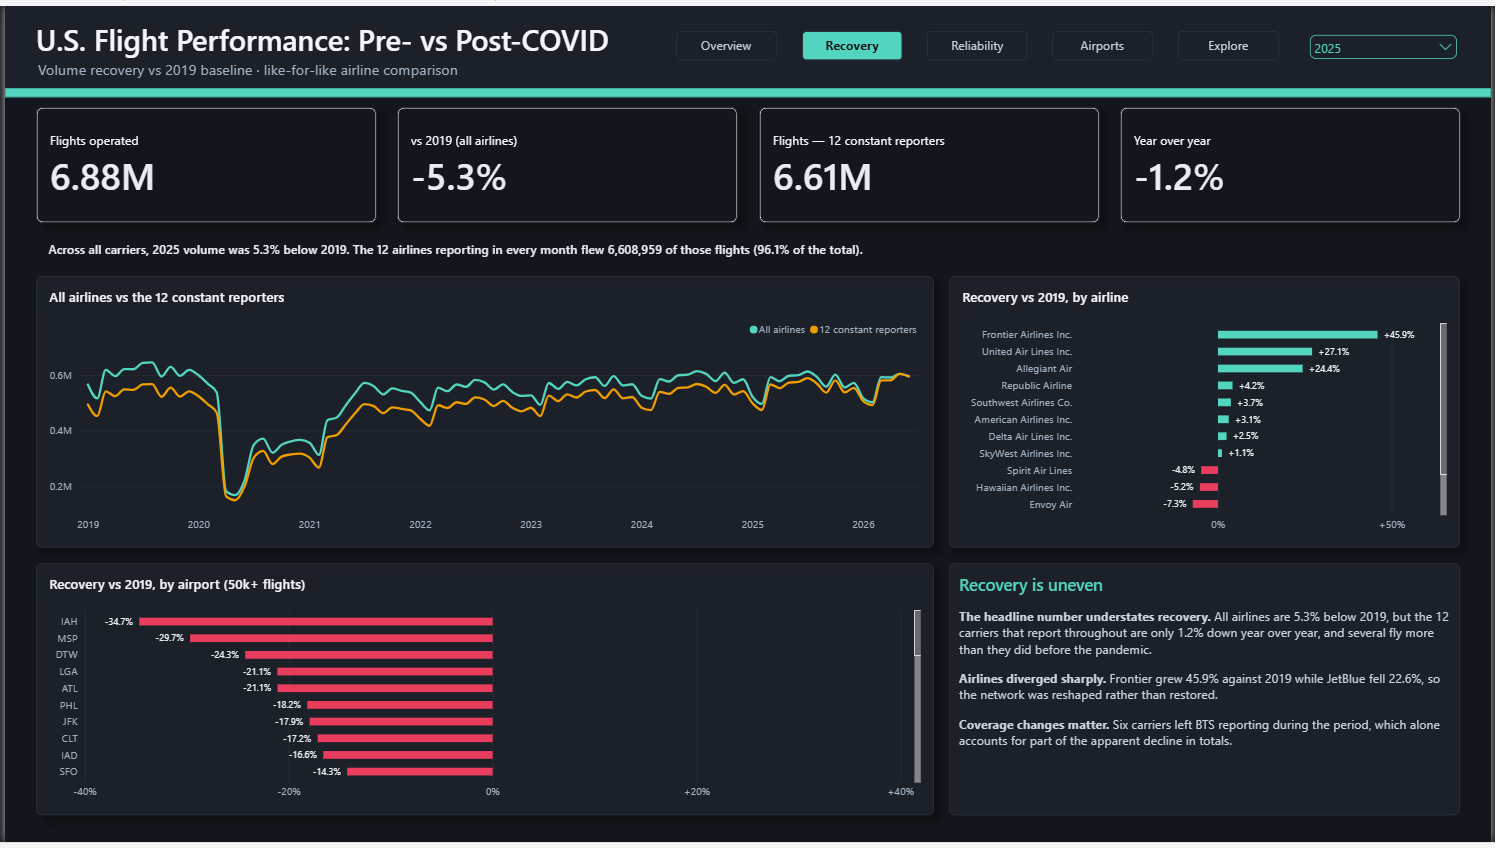

The dashboard page shown, as its layout file describes it:
{"tool":"powerbi","page":{"name":"Recovery","canvas":[1920,1080],"ordinal":1},"visuals":[{"type":"shape","box":[0,0,1920,110],"z":0},{"type":"shape","box":[0,106,1920,12],"z":1000},{"type":"textbox","box":[39.9,18.6,1013.5,66.5],"z":2000},{"type":"textbox","box":[42,70,900,30],"z":3000},{"type":"slicer","fields":{"Values":["dim_date.year"]},"box":[1681.2,31.9,199.5,45.2],"z":4000},{"type":"cardVisual","fields":{"Data":["_Measures.Operated Flights"]},"box":[40,130,440,150],"z":5000},{"type":"cardVisual","fields":{"Data":["_Measures.Recovery vs 2019 %"]},"box":[506.8,130,440,150],"z":6000},{"type":"cardVisual","fields":{"Data":["_Measures.Operated Flights (Like-for-Like)"]},"box":[973.6,130,440,150],"z":7000},{"type":"cardVisual","fields":{"Data":["_Measures.Operated Flights YoY %"]},"box":[1440.4,130.3,440,150],"z":8000},{"type":"lineChart","title":"All airlines vs the 12 constant reporters","fields":{"Category":["dim_date.month_start_date"],"Y":["_Measures.Operated Flights","_Measures.Operated Flights (Like-for-Like)"]},"box":[39.9,348.5,1159.8,351.1],"z":9000},{"type":"clusteredBarChart","title":"Recovery vs 2019, by airline","fields":{"Category":["dim_airline.airline_name"],"Y":["_Measures.Recovery vs 2019 %"]},"box":[1219.7,348.5,659.7,351.1],"z":10000},{"type":"clusteredBarChart","title":"Recovery vs 2019, by airport (50k+ flights)","fields":{"Category":["dim_airport.airport_code"],"Y":["_Measures.Recovery vs 2019 %"]},"box":[39.9,719.6,1159.8,325.9],"z":11000},{"type":"textbox","box":[1219.7,719.6,659.7,325.9],"z":12000},{"type":"cardVisual","fields":{"Data":["_Measures.Narrative Recovery"]},"box":[40,292,1840,44],"z":13000},{"type":"actionButton","box":[867.2,31.9,130,38],"z":14000},{"type":"actionButton","box":[1029.1,31.9,130,38],"z":15000},{"type":"actionButton","box":[1353,31.9,130,38],"z":16000},{"type":"actionButton","box":[1191.1,31.9,130,38],"z":17000},{"type":"actionButton","box":[1514.9,31.9,130,38],"z":18000}]}

Visuals, with their boxes in screenshot pixels (x1, y1, x2, y2), scaled from the page's 1920x1080 canvas onto the 1495x848 screenshot:
shape: bbox=[0, 0, 1494, 86]
shape: bbox=[0, 83, 1494, 93]
textbox: bbox=[31, 15, 820, 67]
textbox: bbox=[33, 55, 733, 79]
slicer - dim_date.year: bbox=[1309, 25, 1464, 61]
cardVisual - _Measures.Operated Flights: bbox=[31, 102, 374, 220]
cardVisual - _Measures.Recovery vs 2019 %: bbox=[395, 102, 737, 220]
cardVisual - _Measures.Operated Flights (Like-for-Like): bbox=[758, 102, 1101, 220]
cardVisual - _Measures.Operated Flights YoY %: bbox=[1122, 102, 1464, 220]
"All airlines vs the 12 constant reporters" lineChart: bbox=[31, 274, 934, 549]
"Recovery vs 2019, by airline" clusteredBarChart: bbox=[950, 274, 1463, 549]
"Recovery vs 2019, by airport (50k+ flights)" clusteredBarChart: bbox=[31, 565, 934, 821]
textbox: bbox=[950, 565, 1463, 821]
cardVisual - _Measures.Narrative Recovery: bbox=[31, 229, 1464, 264]
actionButton: bbox=[675, 25, 776, 55]
actionButton: bbox=[801, 25, 903, 55]
actionButton: bbox=[1054, 25, 1155, 55]
actionButton: bbox=[927, 25, 1029, 55]
actionButton: bbox=[1180, 25, 1281, 55]
